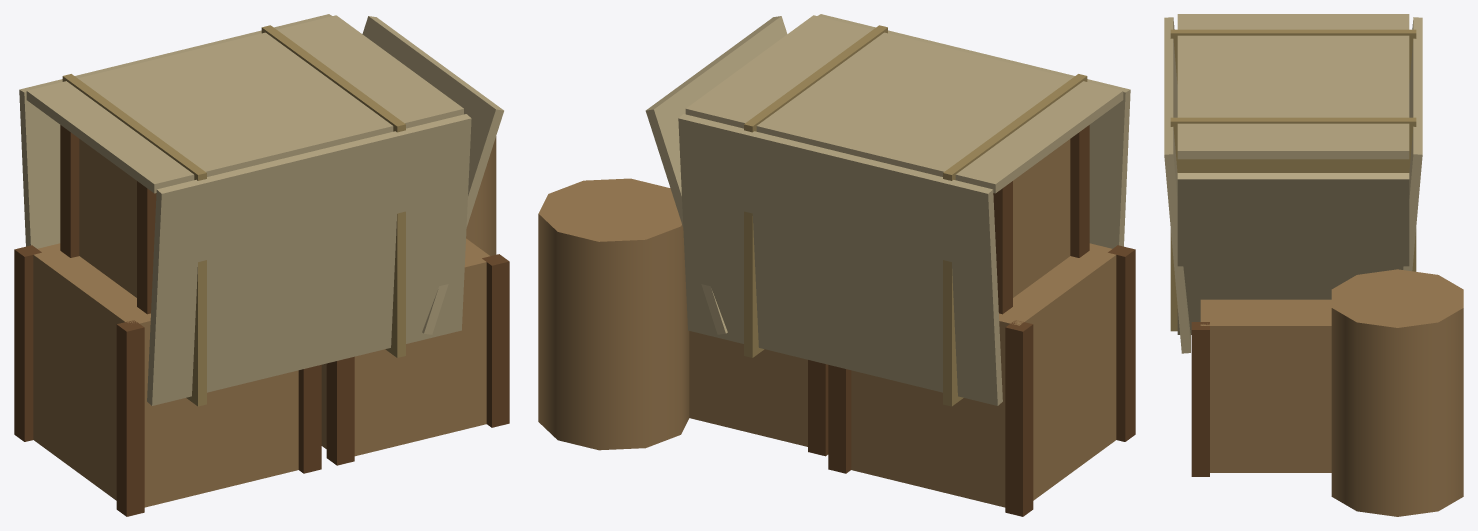
The model's file is mv_tarp_crates.glb.
3 views of the same model, side by side, from view 1: azimuth 30°, elevation 25°; view 2: azimuth 150°, elevation 25°; view 3: azimuth 270°, elevation 25° (orthographic). The views are drawn at different scales.
Visible parts, largest first — view 1: mv_tarp_crates; view 2: mv_tarp_crates; view 3: mv_tarp_crates.
Boxes of the visible parts, left/top/right/bottom form: mv_tarp_crates: left=14, top=14, right=509, bottom=516; mv_tarp_crates: left=538, top=14, right=1135, bottom=516; mv_tarp_crates: left=1164, top=14, right=1463, bottom=516.
Bounding box in the file's own units: 2.14 × 1.45 × 1.29.
